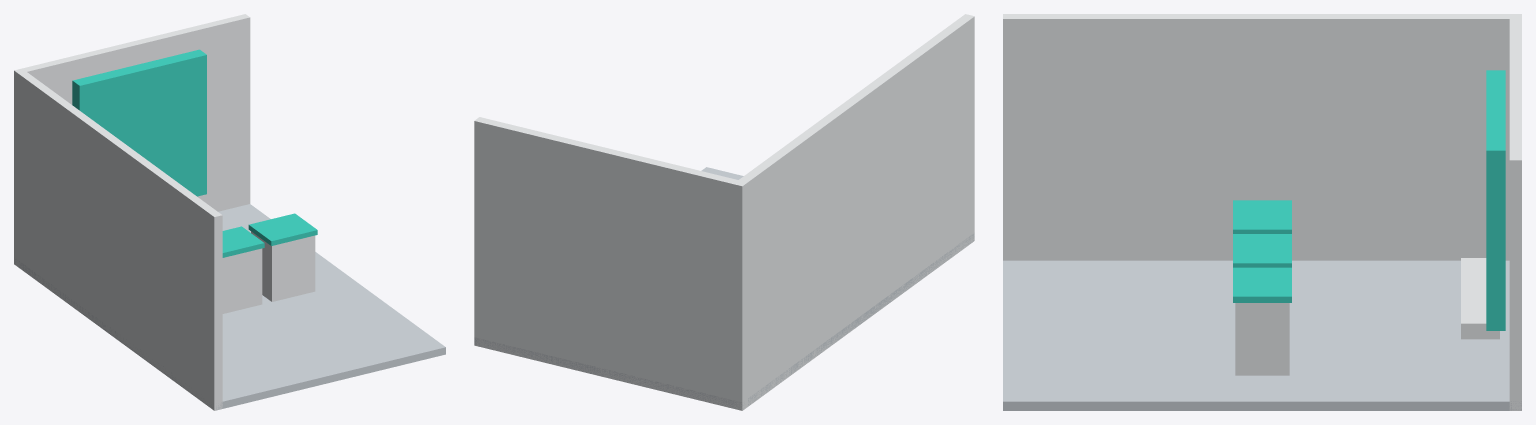
The picture shows the model from 3 angles, left to right: view 1: azimuth 30°, elevation 25°; view 2: azimuth 150°, elevation 25°; view 3: azimuth 270°, elevation 25°; orthographic projection. The views are drawn at different scales.
Parts seen in each view (by area): view 1: Exhibition Booth Concept; view 2: Exhibition Booth Concept; view 3: Exhibition Booth Concept.
Part boxes in pixels (x1=…): Exhibition Booth Concept: x1=14, y1=14, x2=445, y2=410; Exhibition Booth Concept: x1=474, y1=14, x2=974, y2=410; Exhibition Booth Concept: x1=1003, y1=14, x2=1521, y2=410.
Bounding box in the file's own units: 4 × 3.2 × 6.
